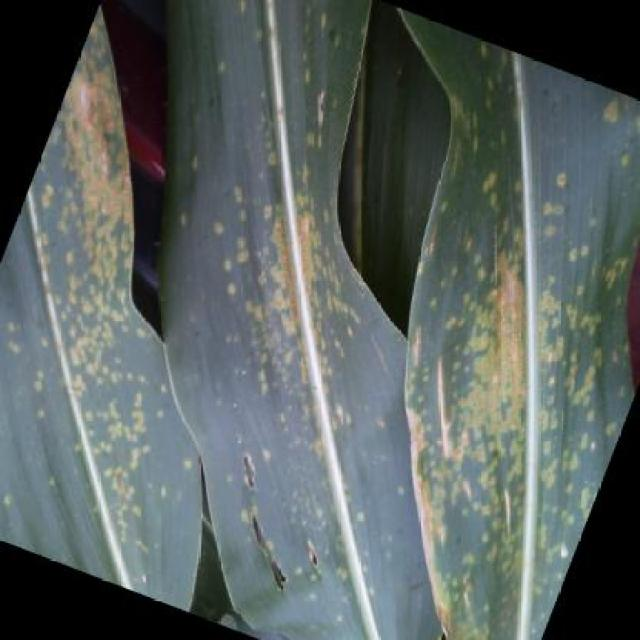Corn_Rust: (165, 22, 412, 584), (380, 76, 577, 544)
